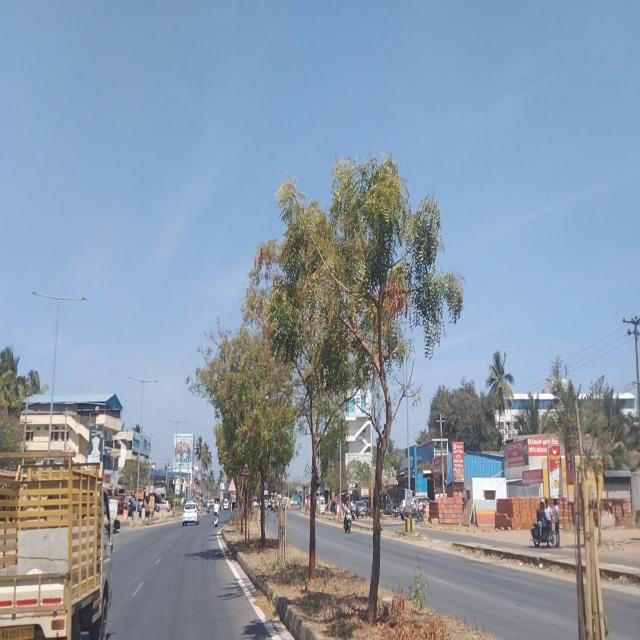bien_cam: (240, 460, 250, 478), (228, 475, 235, 493)
